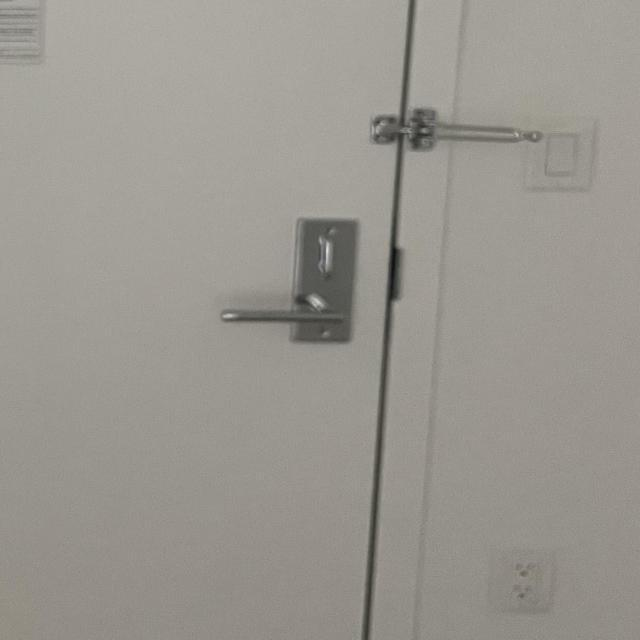door_handle: (212, 287, 371, 347)
